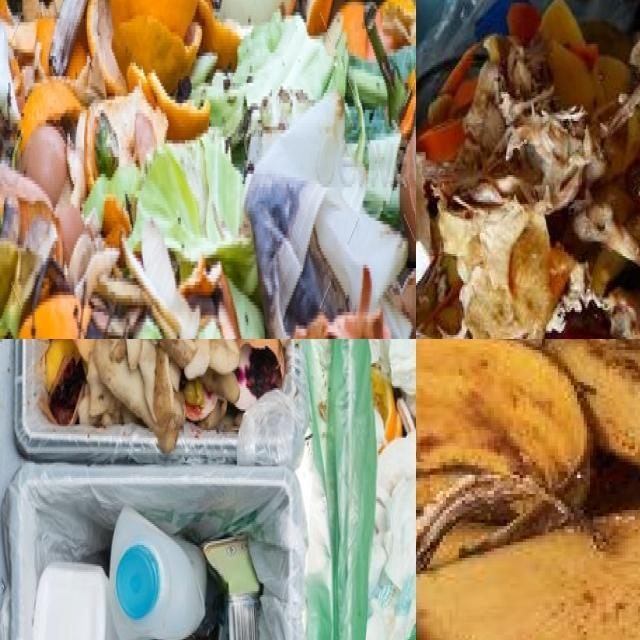Disposable: (203, 536, 260, 640)
Garbage: (416, 0, 640, 339), (416, 339, 640, 640), (33, 508, 260, 640), (45, 339, 291, 453), (367, 339, 416, 640)
Plastic: (245, 90, 408, 339)
Plastic_Container: (110, 508, 205, 640), (33, 562, 120, 640)
contaminated_waste: (416, 0, 504, 83), (562, 0, 636, 29), (522, 0, 551, 10)
